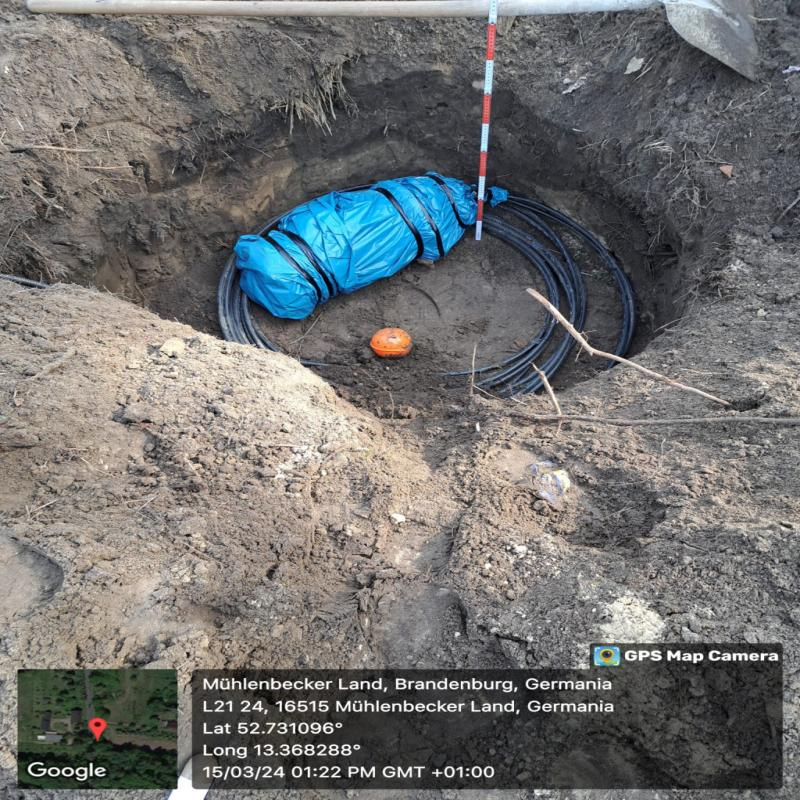Kugelmarker: (369, 328, 414, 358)
NT-Muffen: (235, 171, 508, 320)
